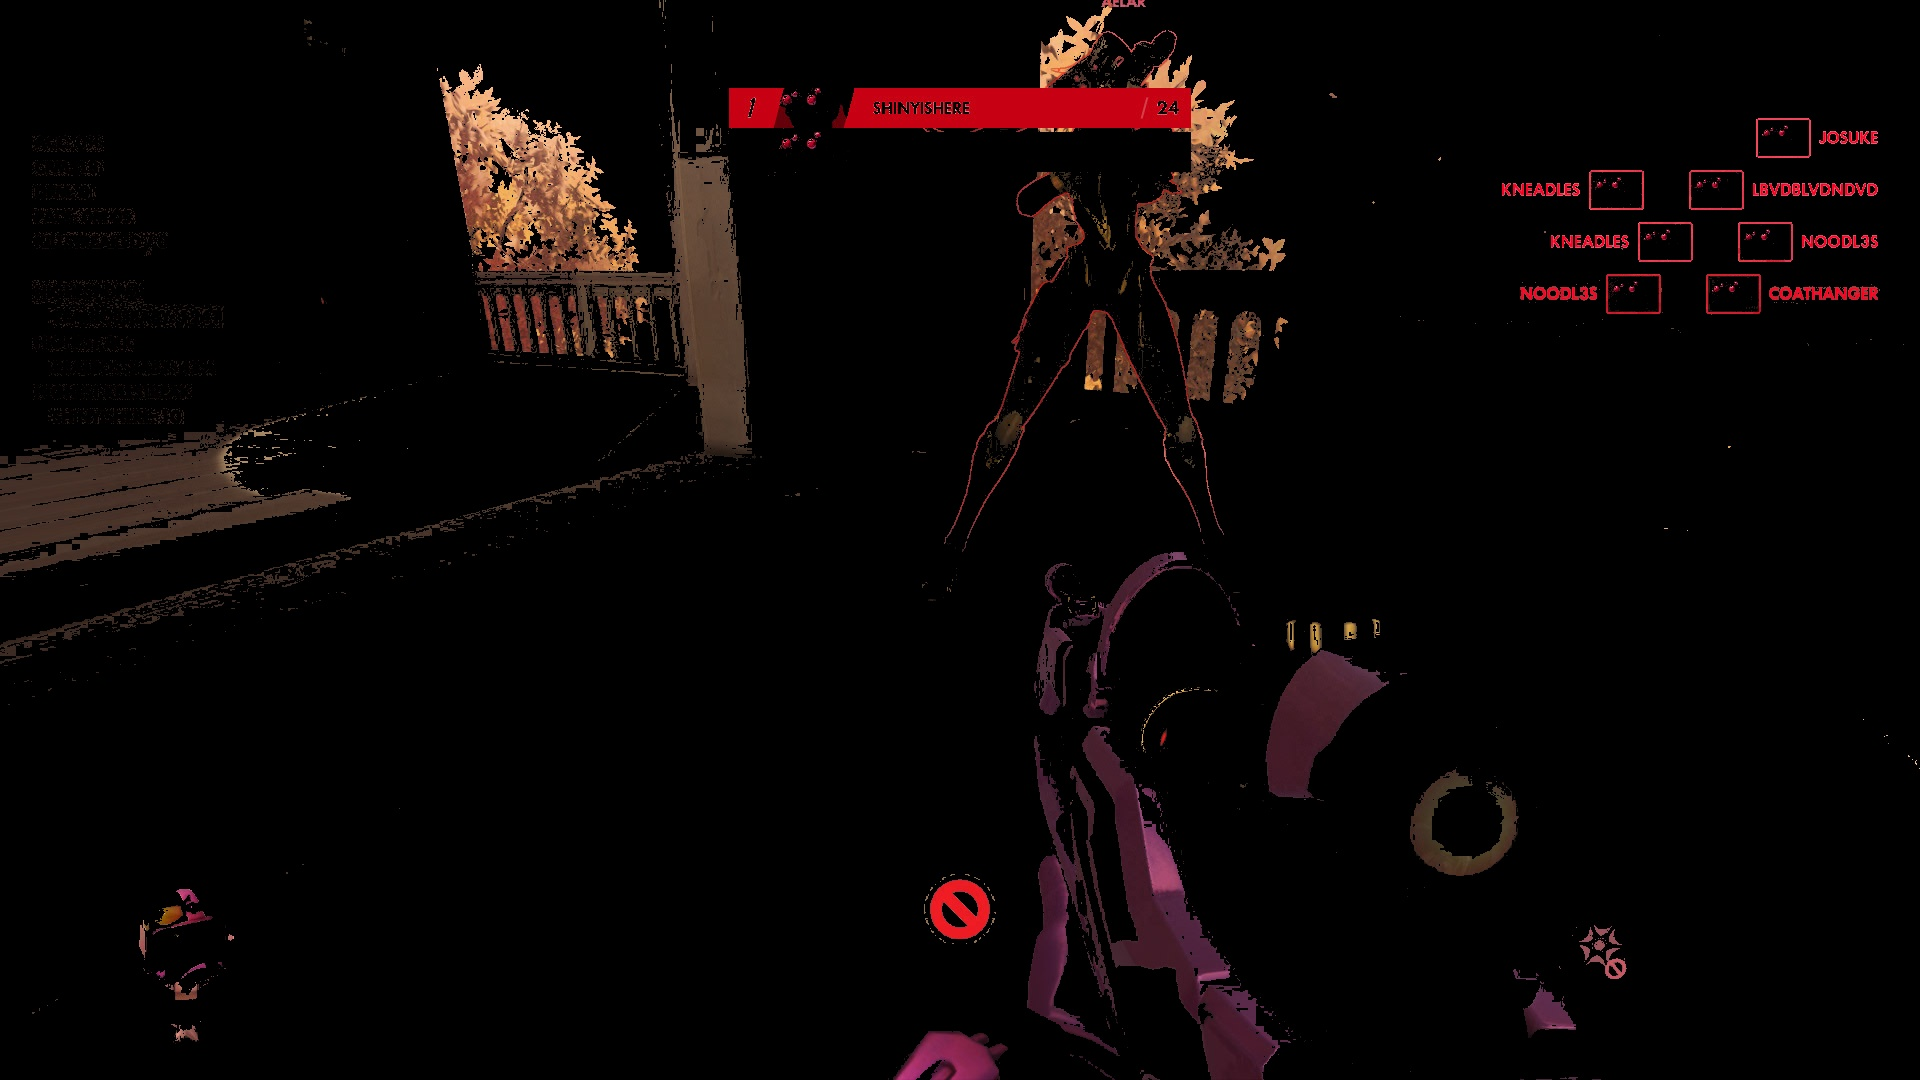widowmaker: (919, 26, 1251, 603)
